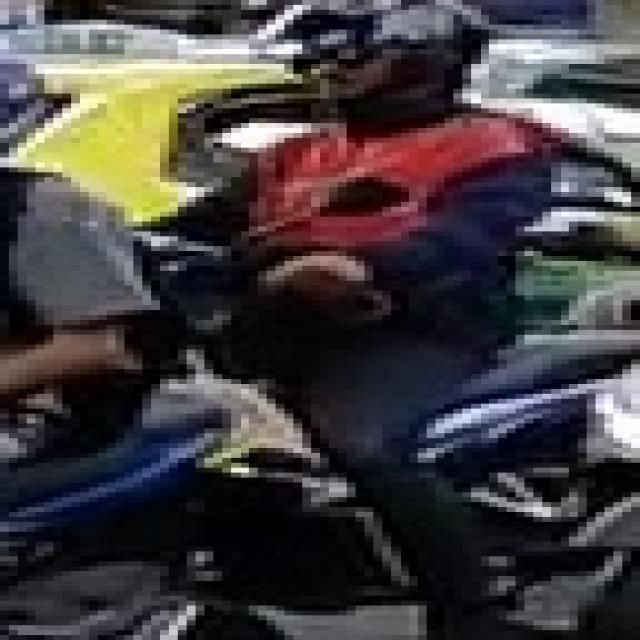helmet: (284, 0, 489, 118)
